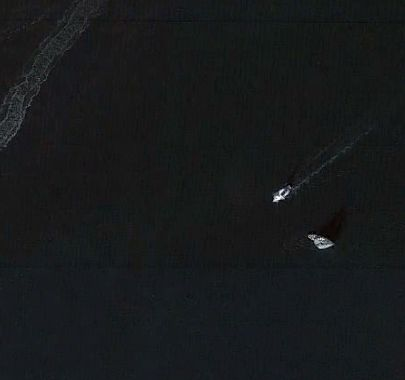boat: (266, 182, 296, 208), (305, 231, 335, 253)
